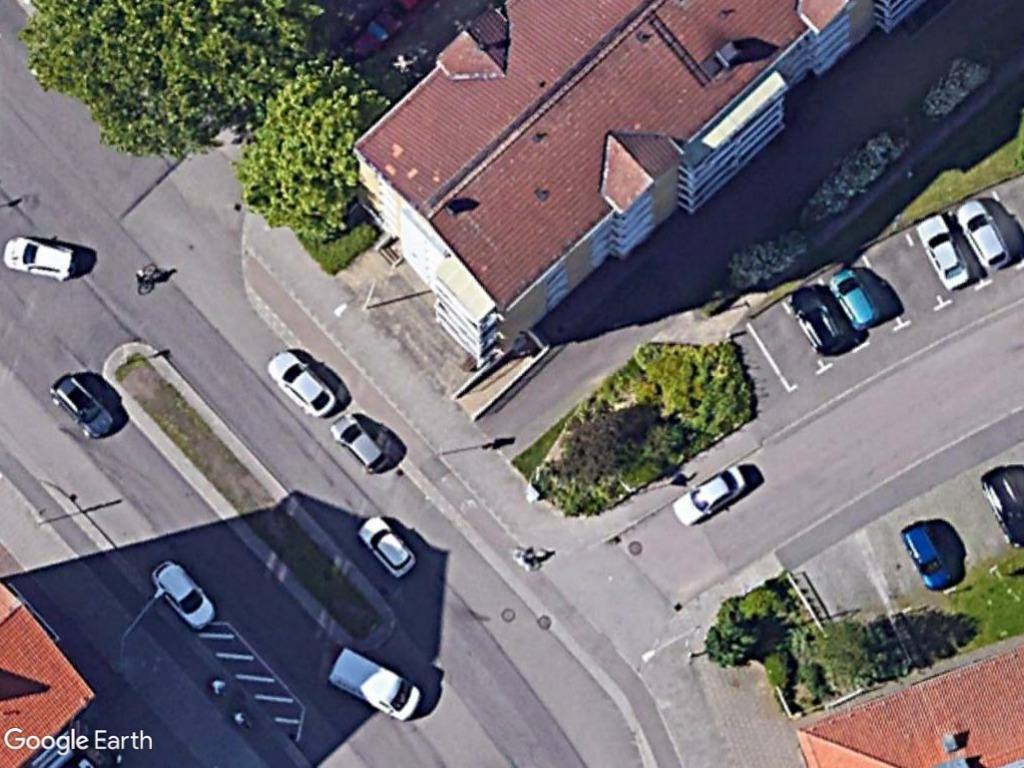car: (666, 459, 753, 530), (149, 555, 222, 633), (267, 344, 341, 419), (914, 207, 974, 296), (46, 370, 122, 440), (953, 194, 1017, 274), (786, 278, 849, 358), (896, 513, 956, 596), (323, 411, 394, 476), (357, 512, 422, 580), (826, 263, 885, 332), (3, 232, 79, 282)
van: (323, 645, 429, 725)
